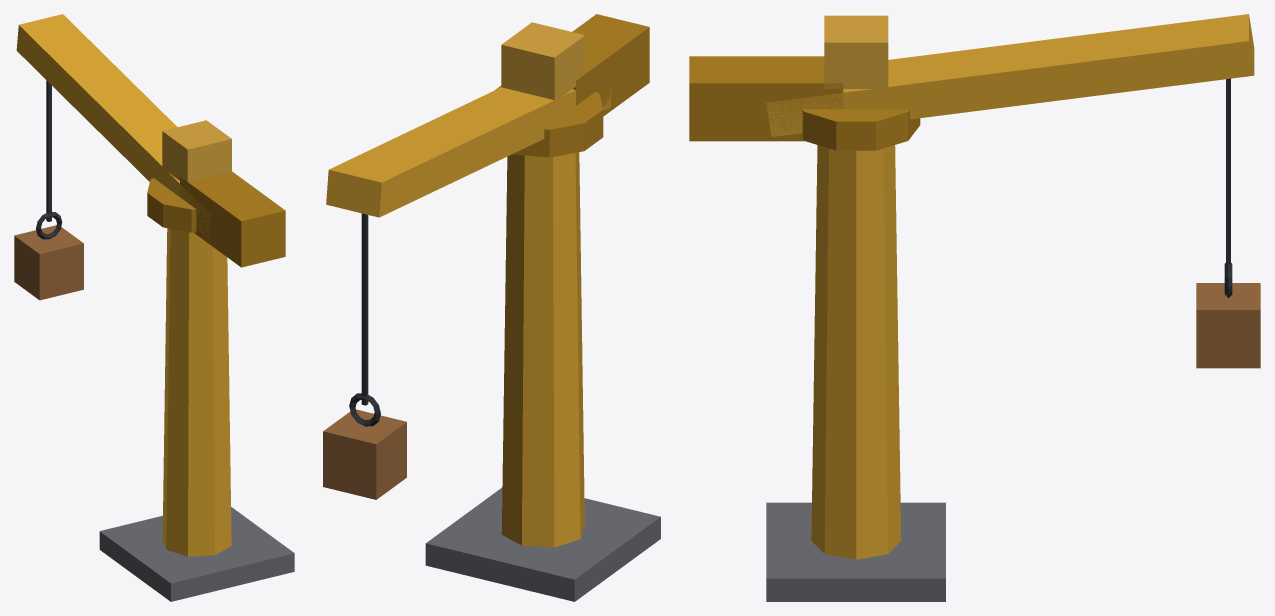
File: HarborCrane.fbx
3 renders of one model, left to right at view 1: azimuth 30°, elevation 25°; view 2: azimuth 150°, elevation 25°; view 3: azimuth 270°, elevation 25°, orthographic. The views are drawn at different scales.
Visible parts, largest first — view 1: HarborCrane; view 2: HarborCrane; view 3: HarborCrane.
Boxes of the visible parts, x1,y1,x2,y2 form: HarborCrane: [14, 14, 294, 601]; HarborCrane: [323, 14, 660, 601]; HarborCrane: [689, 14, 1260, 601].
Size of the model in its own units: 1.4 by 4.61 by 4.45.
